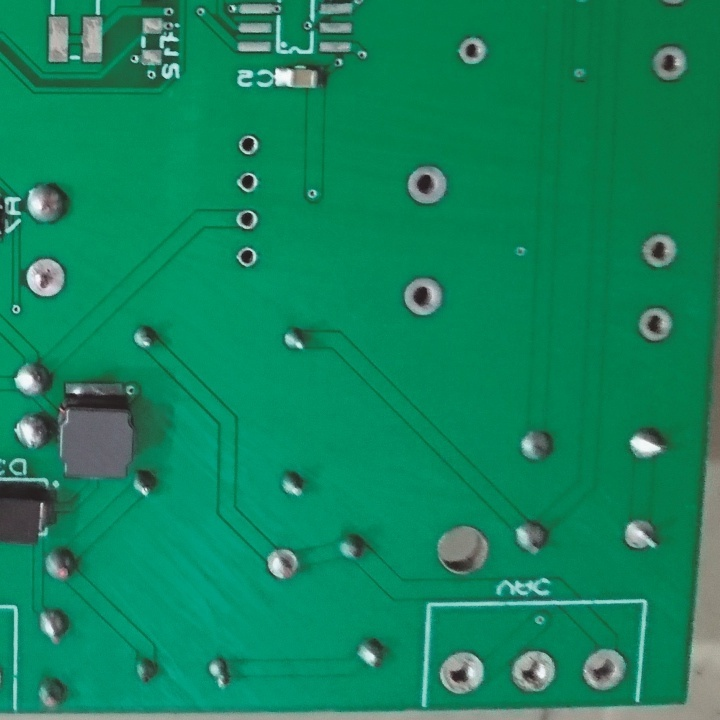F: (576, 642, 630, 695), (436, 647, 487, 698), (21, 256, 72, 307), (508, 649, 560, 698), (403, 163, 450, 207), (401, 275, 445, 319), (621, 515, 664, 558), (650, 40, 690, 83), (635, 306, 676, 345), (264, 546, 303, 587), (641, 232, 684, 269), (454, 34, 492, 69), (232, 244, 260, 271), (237, 134, 264, 160), (235, 209, 261, 232), (236, 172, 259, 193)
